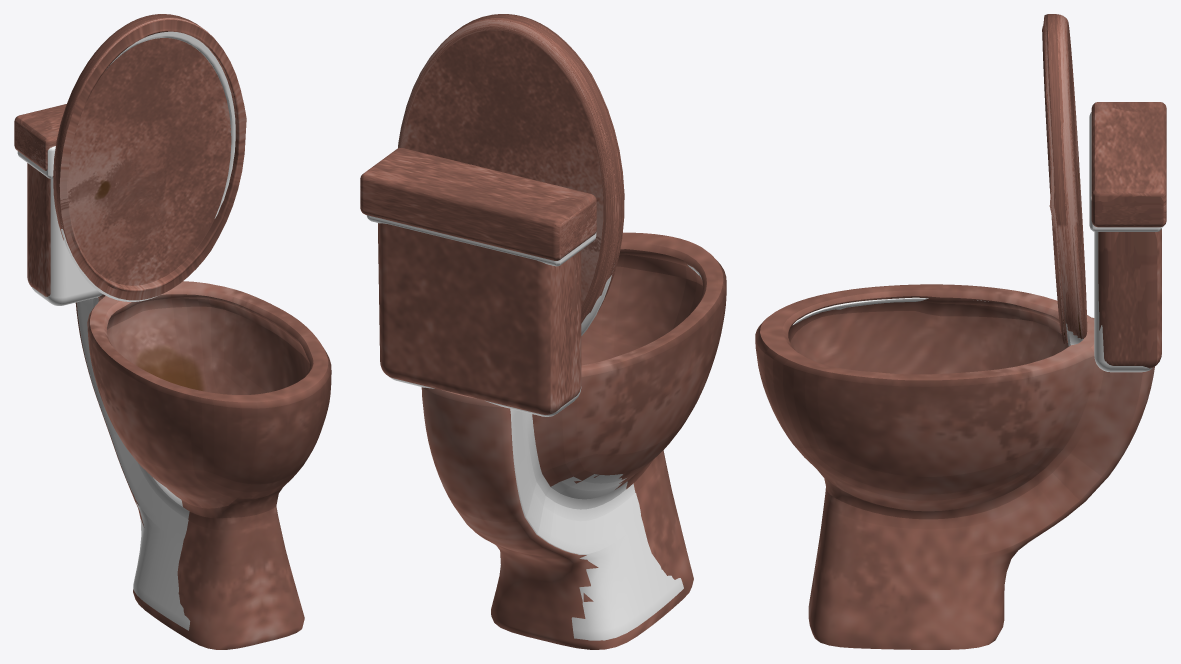
File: matong.fbx
The picture shows the model from 3 angles, left to right: view 1: azimuth 30°, elevation 25°; view 2: azimuth 150°, elevation 25°; view 3: azimuth 270°, elevation 25°; orthographic projection. The views are drawn at different scales.
Parts seen in each view (by area): view 1: polySurface9, pCube3; view 2: polySurface9, pCube3; view 3: polySurface9, pCube3.
Part boxes in pixels (box(x1,y1,x2,y2)): polySurface9: box(14, 14, 331, 649); pCube3: box(17, 31, 235, 630); polySurface9: box(360, 14, 726, 649); pCube3: box(366, 215, 701, 640); polySurface9: box(755, 14, 1166, 649); pCube3: box(792, 112, 1162, 372).
Bounding box in the file's own units: 132 × 372 × 231.
